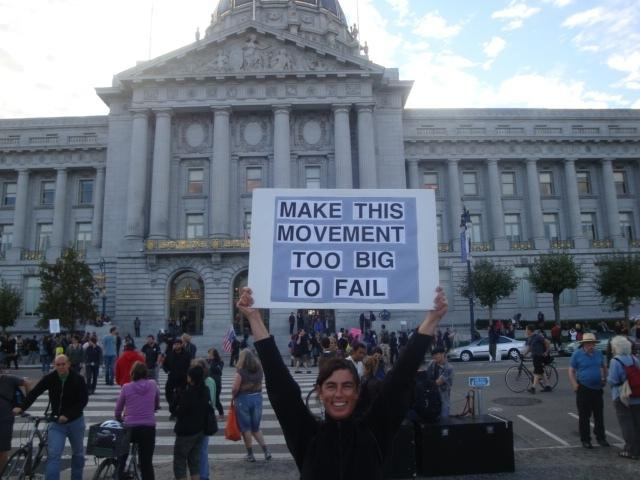non-vehicle: (84, 404, 161, 479), (0, 410, 63, 479), (504, 352, 558, 392)
